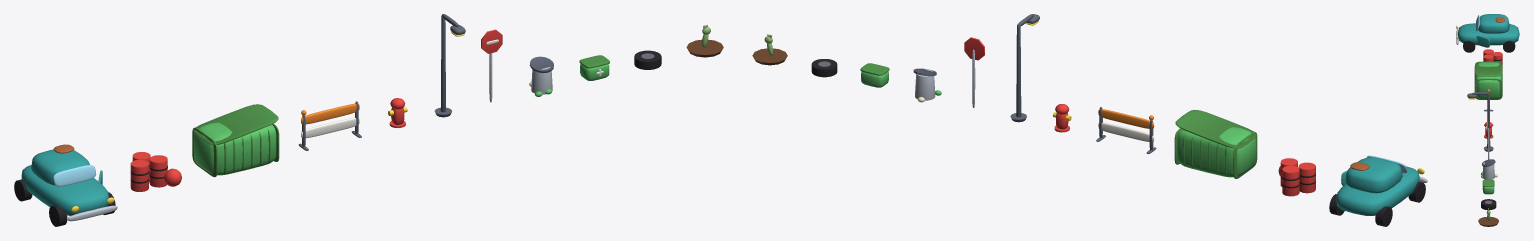
File: Deco_Zombis.fbx
3 renders of one model, left to right at view 1: azimuth 30°, elevation 25°; view 2: azimuth 150°, elevation 25°; view 3: azimuth 270°, elevation 25°, orthographic. The views are drawn at different scales.
Parts seen in each view (by area): view 1: CocheRoto, Contenedor, Bidones, VallaObra, Basura, Farola, Suministros, ManoZombi, Stop, Neumatico, Hidrante; view 2: Contenedor, CocheRoto, VallaObra, Bidones, Farola, Basura, Suministros, ManoZombi, Stop, Neumatico, Hidrante; view 3: CocheRoto, Contenedor, Basura, Farola, Bidones, ManoZombi, Suministros, Neumatico, Hidrante, Stop.
Boxes of the visible parts, x1,y1,x2,y2 form: CocheRoto: [14, 144, 117, 226]; Contenedor: [192, 104, 279, 177]; Bidones: [130, 152, 181, 191]; VallaObra: [298, 101, 361, 150]; Basura: [529, 56, 553, 96]; Farola: [434, 14, 465, 117]; Suministros: [579, 55, 609, 80]; ManoZombi: [686, 24, 723, 57]; Stop: [481, 29, 502, 102]; Neumatico: [634, 50, 661, 69]; Hidrante: [388, 98, 407, 128]; Contenedor: [1174, 110, 1257, 178]; CocheRoto: [1329, 155, 1427, 226]; VallaObra: [1096, 107, 1156, 153]; Bidones: [1278, 158, 1315, 196]; Farola: [1010, 14, 1039, 122]; Basura: [913, 68, 941, 102]; Suministros: [860, 63, 889, 87]; ManoZombi: [752, 34, 787, 65]; Stop: [964, 37, 984, 107]; Neumatico: [811, 59, 837, 77]; Hidrante: [1052, 104, 1071, 132]; CocheRoto: [1456, 14, 1519, 52]; Contenedor: [1474, 61, 1502, 99]; Basura: [1481, 159, 1497, 179]; Farola: [1467, 92, 1493, 151]; Bidones: [1483, 49, 1502, 64]; ManoZombi: [1478, 208, 1498, 226]; Suministros: [1482, 179, 1494, 194]; Neumatico: [1481, 199, 1496, 210]; Hidrante: [1484, 122, 1493, 138]; Stop: [1486, 120, 1489, 159].
Bounding box in the file's own units: 23.22 × 3.28 × 3.27.
2 materials, 2 textured.
